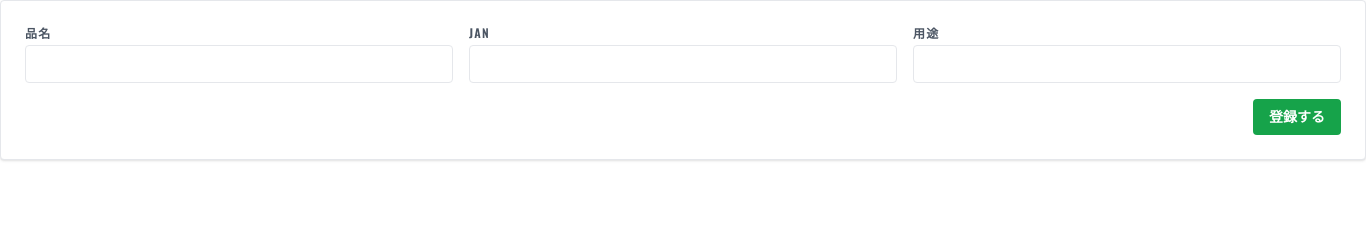
Test: ConsumableRegisterForm › 用途が未入力のまま送信するとAPIを呼ばずエラーを表示する
The image size is (1366, 230).
Type "ガーゼ" into the field labelled "品名" at x=239, y=64, box left=25, top=45, right=453, bottom=83
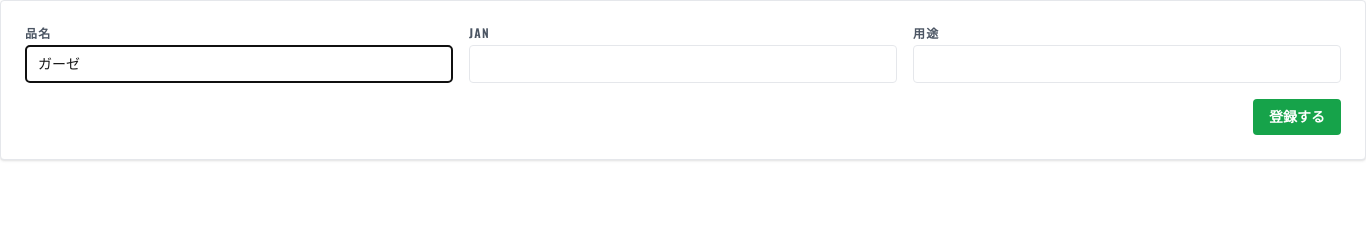
Click the button "登録する" at x=1297, y=117, box left=1253, top=99, right=1341, bottom=135
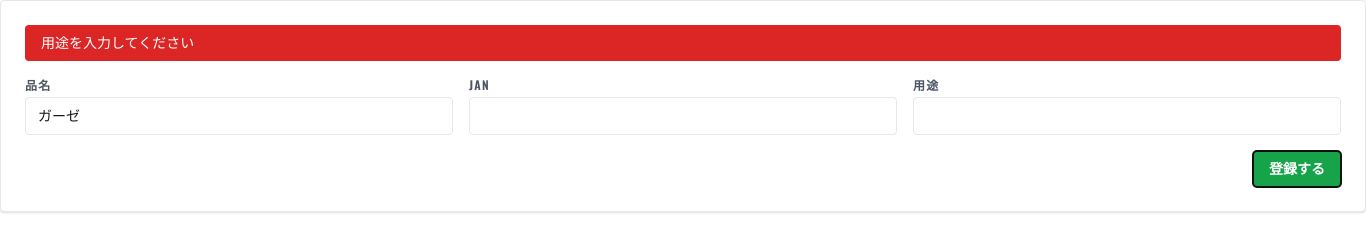
Check: the text "用途を入力してください" is shown, box left=25, top=25, right=1341, bottom=61
